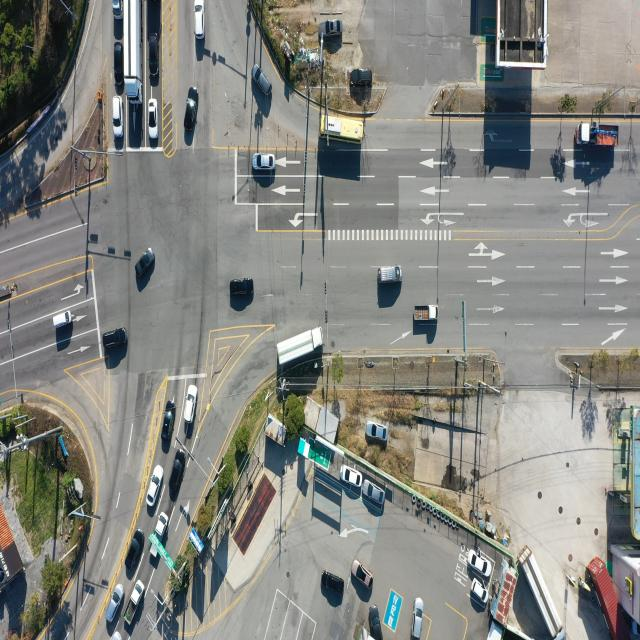car: (169, 452, 186, 503), (146, 464, 164, 507), (127, 532, 145, 572), (106, 584, 124, 623), (162, 404, 176, 452), (351, 561, 373, 589), (134, 248, 155, 277), (469, 552, 492, 578), (149, 34, 160, 87), (320, 570, 344, 594), (254, 68, 272, 99), (365, 481, 386, 507), (186, 88, 199, 130), (102, 327, 126, 349), (369, 601, 382, 640), (412, 598, 424, 640), (184, 385, 196, 425), (342, 465, 363, 487), (230, 278, 254, 297), (376, 266, 401, 284), (472, 580, 489, 605), (365, 422, 387, 441), (116, 94, 126, 135), (148, 98, 158, 138), (196, 0, 206, 40), (252, 153, 275, 170), (54, 310, 73, 329), (322, 19, 342, 37), (352, 68, 372, 85), (115, 43, 123, 81)
large_bus: (324, 116, 365, 144)
medium_truck: (524, 546, 566, 638), (275, 327, 322, 371), (126, 0, 144, 97), (576, 125, 616, 150)
small_truck: (148, 510, 170, 562), (125, 578, 146, 620), (414, 305, 439, 323), (112, 0, 124, 20)
